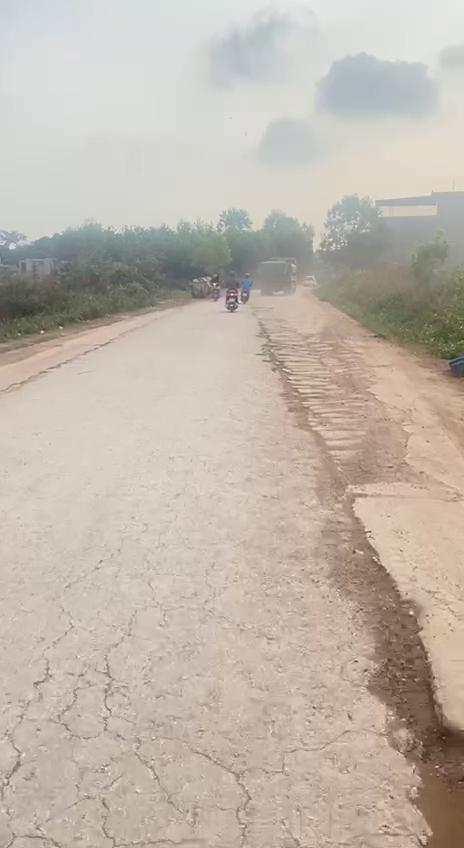pothole: (329, 541, 464, 848)
